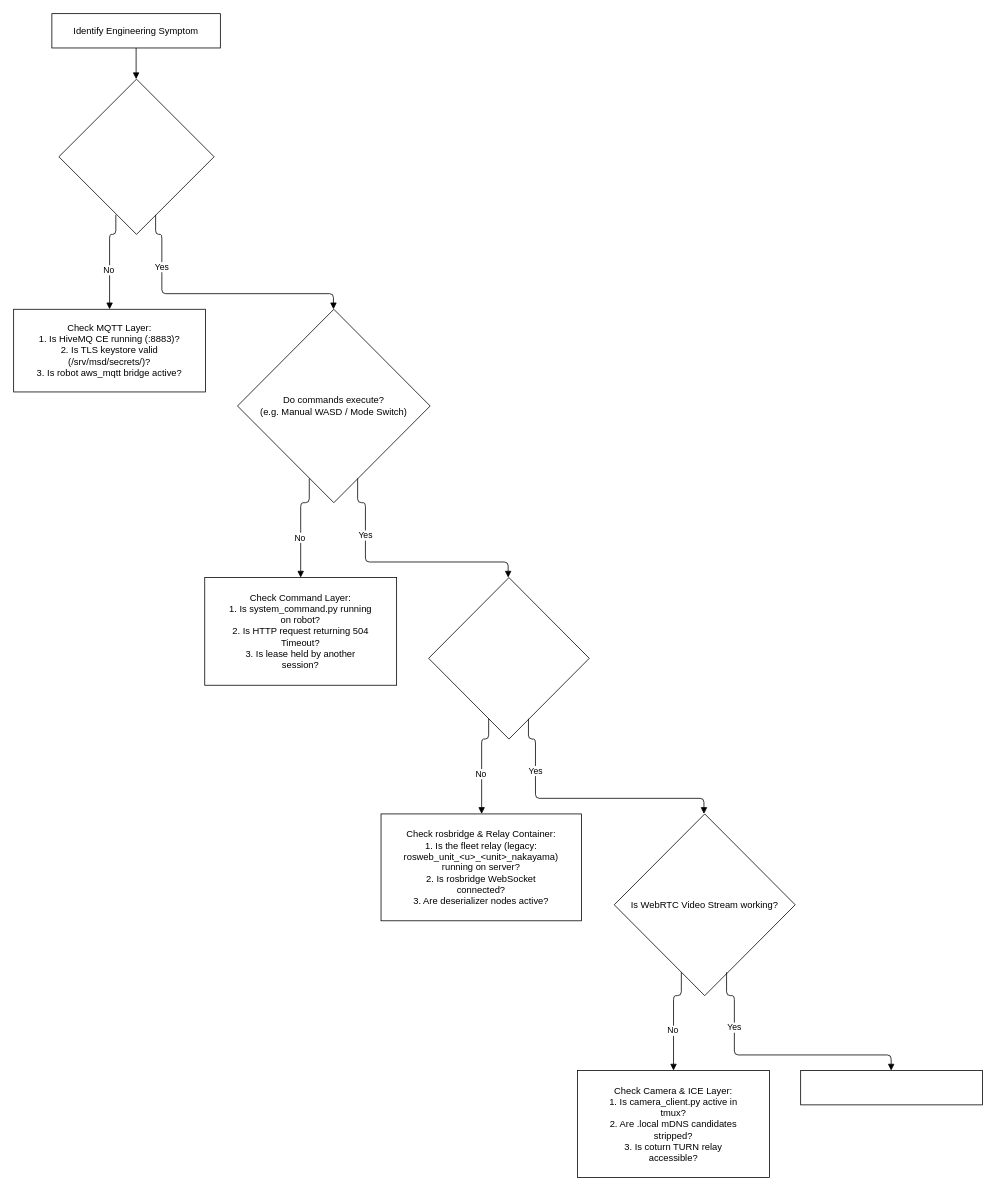
Some shapes in this 996 by 1191 pixel diagram are drawn without their labels. The shapes that lost their labels are listed below. From the top down, each one's centre as x and y in pixels, then its label:
At pixel 136 156: "Does the unit show Online in the Web Console?".
At pixel 508 658: "Is the Map Canvas populated?".
At pixel 891 1087: "All Core Subsystems Operational".
